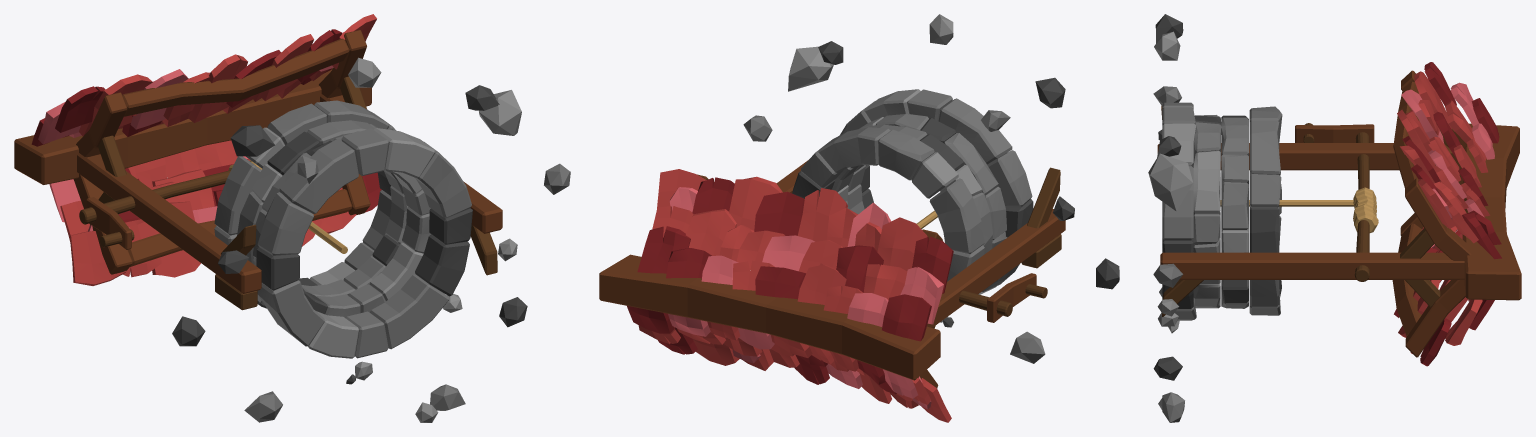
File: Well.dae
The picture shows the model from 3 angles, left to right: view 1: azimuth 30°, elevation 25°; view 2: azimuth 150°, elevation 25°; view 3: azimuth 270°, elevation 25°; orthographic projection. The views are drawn at different scales.
Visible parts, largest first — view 1: Plane.023; view 2: Plane.023; view 3: Plane.023.
Boxes of the visible parts, x1,y1,x2,y2 form: Plane.023: [14, 14, 570, 422]; Plane.023: [599, 14, 1119, 422]; Plane.023: [1148, 14, 1521, 422].
Bounding box in the file's own units: 6.15 × 5.38 × 5.58.
